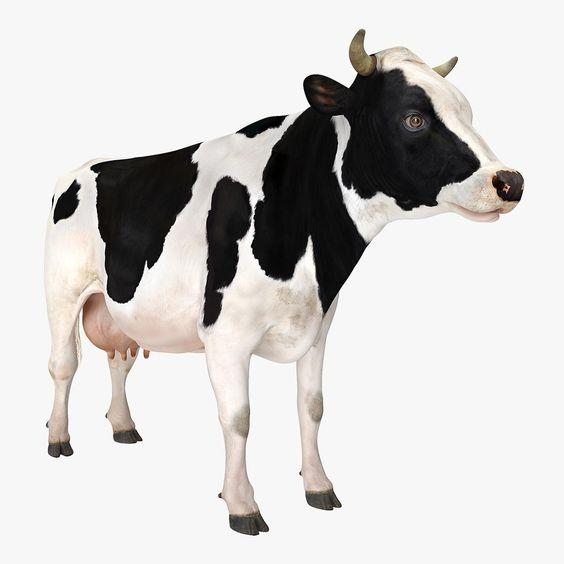cow: (10, 17, 553, 475)
